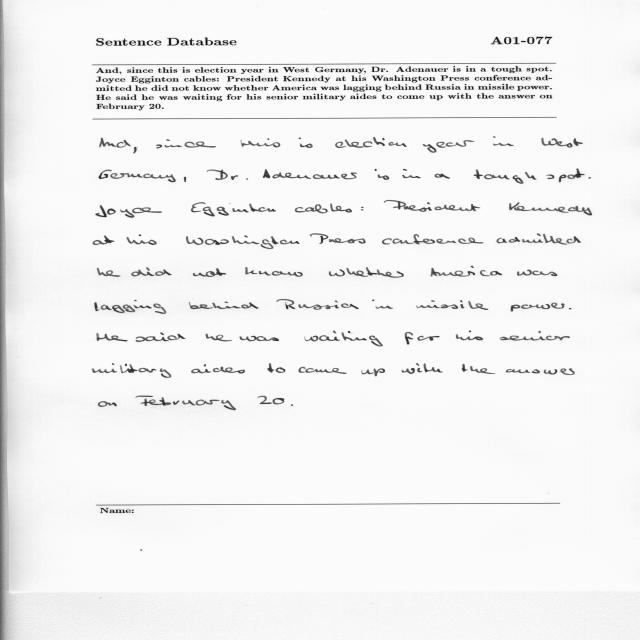word: (186, 235, 299, 249), (136, 396, 236, 411), (191, 202, 276, 217), (304, 331, 383, 347), (93, 363, 172, 378), (384, 200, 480, 212), (509, 203, 592, 216), (382, 234, 483, 244), (95, 300, 166, 314), (473, 169, 537, 184), (263, 169, 357, 179), (496, 234, 581, 245), (99, 170, 176, 182), (276, 299, 359, 310), (329, 267, 404, 278), (335, 137, 407, 148), (96, 205, 162, 217), (431, 266, 503, 277), (417, 300, 489, 310), (500, 331, 570, 341), (423, 140, 474, 153), (310, 233, 366, 244), (100, 138, 137, 154), (245, 267, 303, 277), (295, 204, 352, 214), (189, 302, 258, 310), (546, 169, 585, 183), (191, 364, 245, 374), (136, 332, 186, 342), (511, 303, 565, 312), (164, 139, 216, 148), (401, 363, 443, 374), (541, 138, 583, 148), (405, 332, 440, 344), (506, 369, 575, 375), (207, 170, 248, 180), (131, 268, 172, 277), (241, 139, 281, 148), (298, 367, 347, 374), (462, 364, 496, 374), (127, 234, 157, 245), (193, 268, 226, 277), (97, 333, 127, 342), (456, 331, 483, 341), (517, 270, 557, 276), (205, 334, 232, 342), (258, 396, 285, 404), (94, 235, 115, 245), (98, 268, 121, 277), (240, 336, 279, 341), (361, 369, 385, 377), (267, 363, 286, 373), (493, 137, 514, 146), (372, 300, 393, 309), (402, 169, 421, 178), (299, 137, 313, 148), (375, 169, 389, 180), (98, 401, 117, 407), (435, 174, 450, 179), (156, 145, 162, 149), (184, 177, 186, 182), (361, 207, 363, 211), (588, 177, 591, 179), (291, 404, 293, 406), (569, 308, 571, 309)
